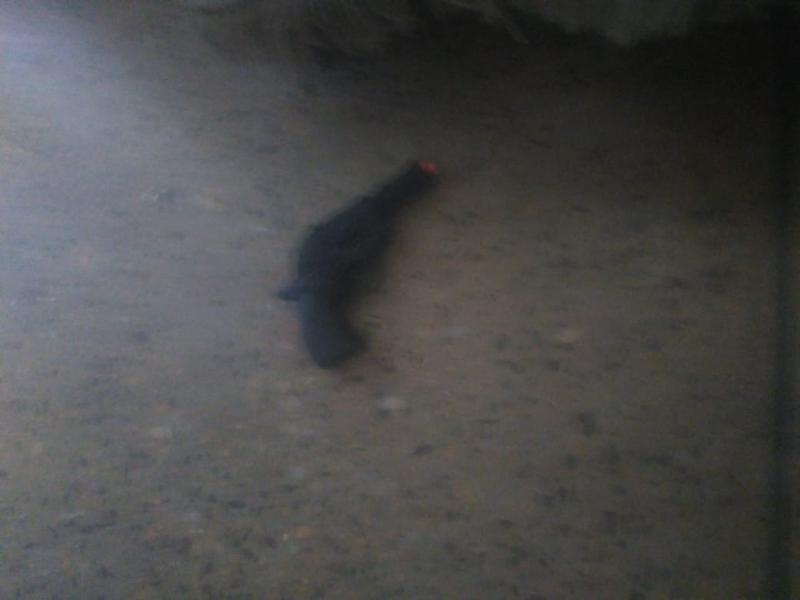gun: (272, 148, 477, 393)
